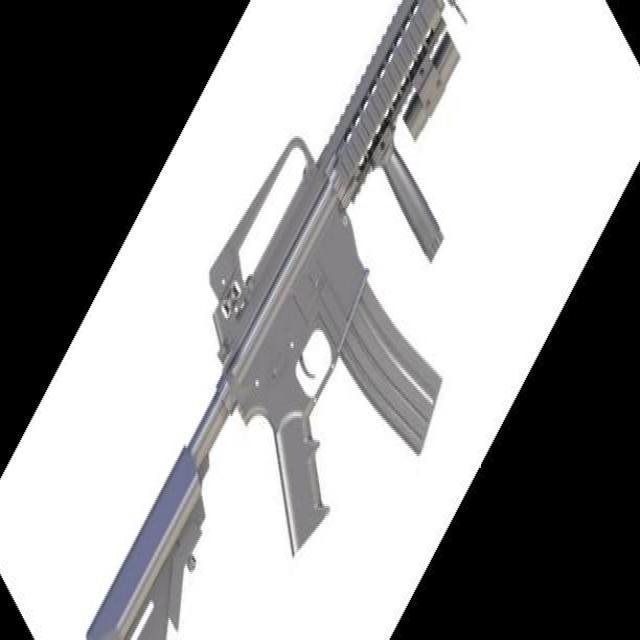weapon: (86, 0, 467, 640)
